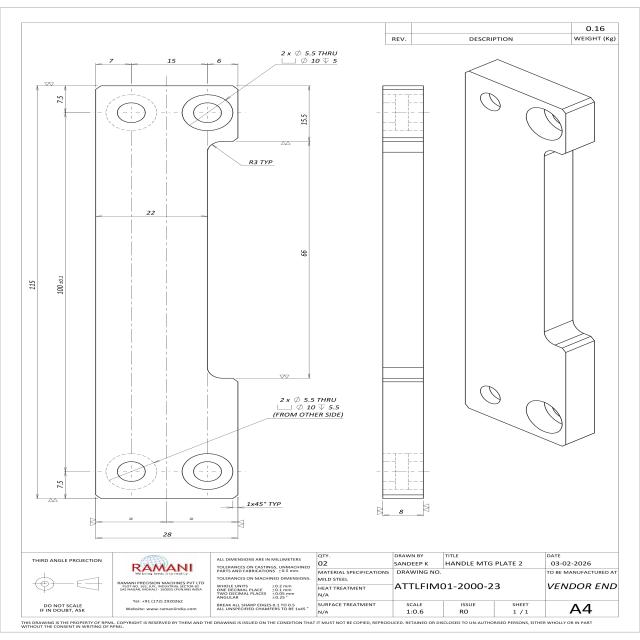dimension: (54, 112, 70, 475), (28, 83, 41, 500), (298, 141, 312, 379), (270, 396, 344, 419), (94, 530, 240, 541), (94, 516, 239, 524), (95, 209, 208, 219), (279, 49, 339, 64), (298, 86, 312, 142), (130, 57, 208, 66), (380, 508, 425, 518), (227, 501, 283, 509), (55, 85, 69, 114), (56, 472, 69, 499), (95, 58, 132, 67), (206, 58, 239, 67), (248, 160, 276, 167)
